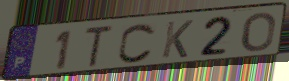1: (53, 30, 73, 71)
2: (196, 15, 234, 59)
C: (116, 22, 158, 65)
K: (159, 19, 195, 60)
O: (240, 11, 277, 54)
T: (83, 24, 115, 70)
